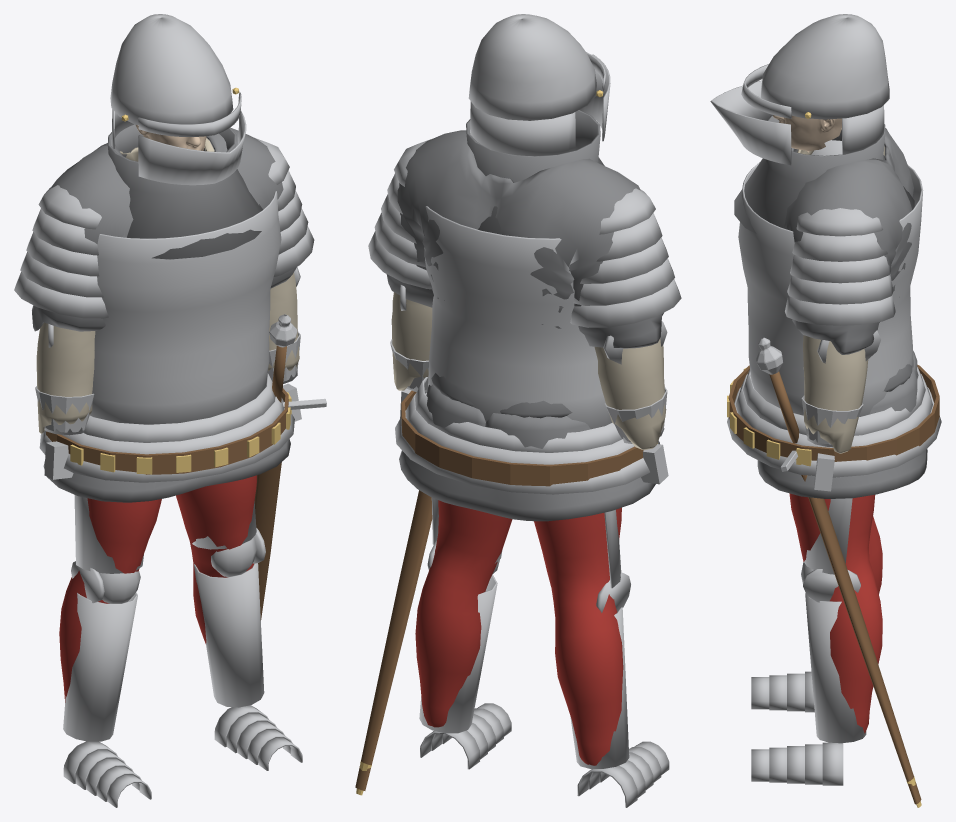
The model's file is SM_English_Tier4.fbx.
3 renders of one model, left to right at view 1: azimuth 30°, elevation 25°; view 2: azimuth 150°, elevation 25°; view 3: azimuth 270°, elevation 25°, orthographic. The views are drawn at different scales.
Parts seen in each view (by area): view 1: Breastplate & Backplate, Leg Harness, Great Bascinet with Klappvisier, Arm Harness, Mail Haubergeon, Hose, Mail Aventail, Fauld, Arming Doublet, Heavy Sword Belt, Gauntlets, Longsword Scabbard (+4 smaller); view 2: Mail Haubergeon, Hose, Breastplate & Backplate, Great Bascinet with Klappvisier, Arm Harness, Leg Harness, Fauld, Arming Doublet, Heavy Sword Belt, Longsword Scabbard, Mail Aventail, Gauntlets; view 3: Great Bascinet with Klappvisier, Mail Haubergeon, Breastplate & Backplate, Leg Harness, Arm Harness, Hose, Fauld, Arming Doublet, Mail Aventail, Longsword Scabbard, Heavy Sword Belt, Gauntlets (+4 smaller).
Part boxes in pixels (x1,y1,x2,y2): Breastplate & Backplate: (90,191,281,424); Leg Harness: (63,495,302,807); Great Bascinet with Klappvisier: (110,14,246,185); Arm Harness: (14,138,314,435); Mail Haubergeon: (32,128,296,502); Hose: (59,475,256,702); Mail Aventail: (107,124,262,259); Fauld: (39,373,294,482); Arming Doublet: (36,138,299,433); Heavy Sword Belt: (46,388,288,474); Gauntlets: (35,331,301,479); Longsword Scabbard: (254,462,281,620); Mail Haubergeon: (386,130,663,521); Hose: (415,500,623,765); Breastplate & Backplate: (424,206,611,428); Great Bascinet with Klappvisier: (468,14,610,155); Arm Harness: (368,139,681,443); Leg Harness: (419,497,669,807); Fauld: (395,377,659,494); Arming Doublet: (391,292,666,450); Heavy Sword Belt: (401,390,643,486); Longsword Scabbard: (355,490,432,790); Mail Aventail: (466,110,604,234); Gauntlets: (390,339,668,484); Great Bascinet with Klappvisier: (710,14,889,165); Mail Haubergeon: (757,128,927,498); Breastplate & Backplate: (738,162,923,416); Leg Harness: (751,498,866,785); Arm Harness: (785,140,895,447); Hose: (789,493,882,733); Fauld: (727,367,941,477); Arming Doublet: (797,128,884,453); Mail Aventail: (734,115,914,233); Longsword Scabbard: (801,475,921,804); Heavy Sword Belt: (728,364,939,461); Gauntlets: (801,395,863,491).
Bounding box in the file's own units: 0.758 × 0.5416 × 1.89.
